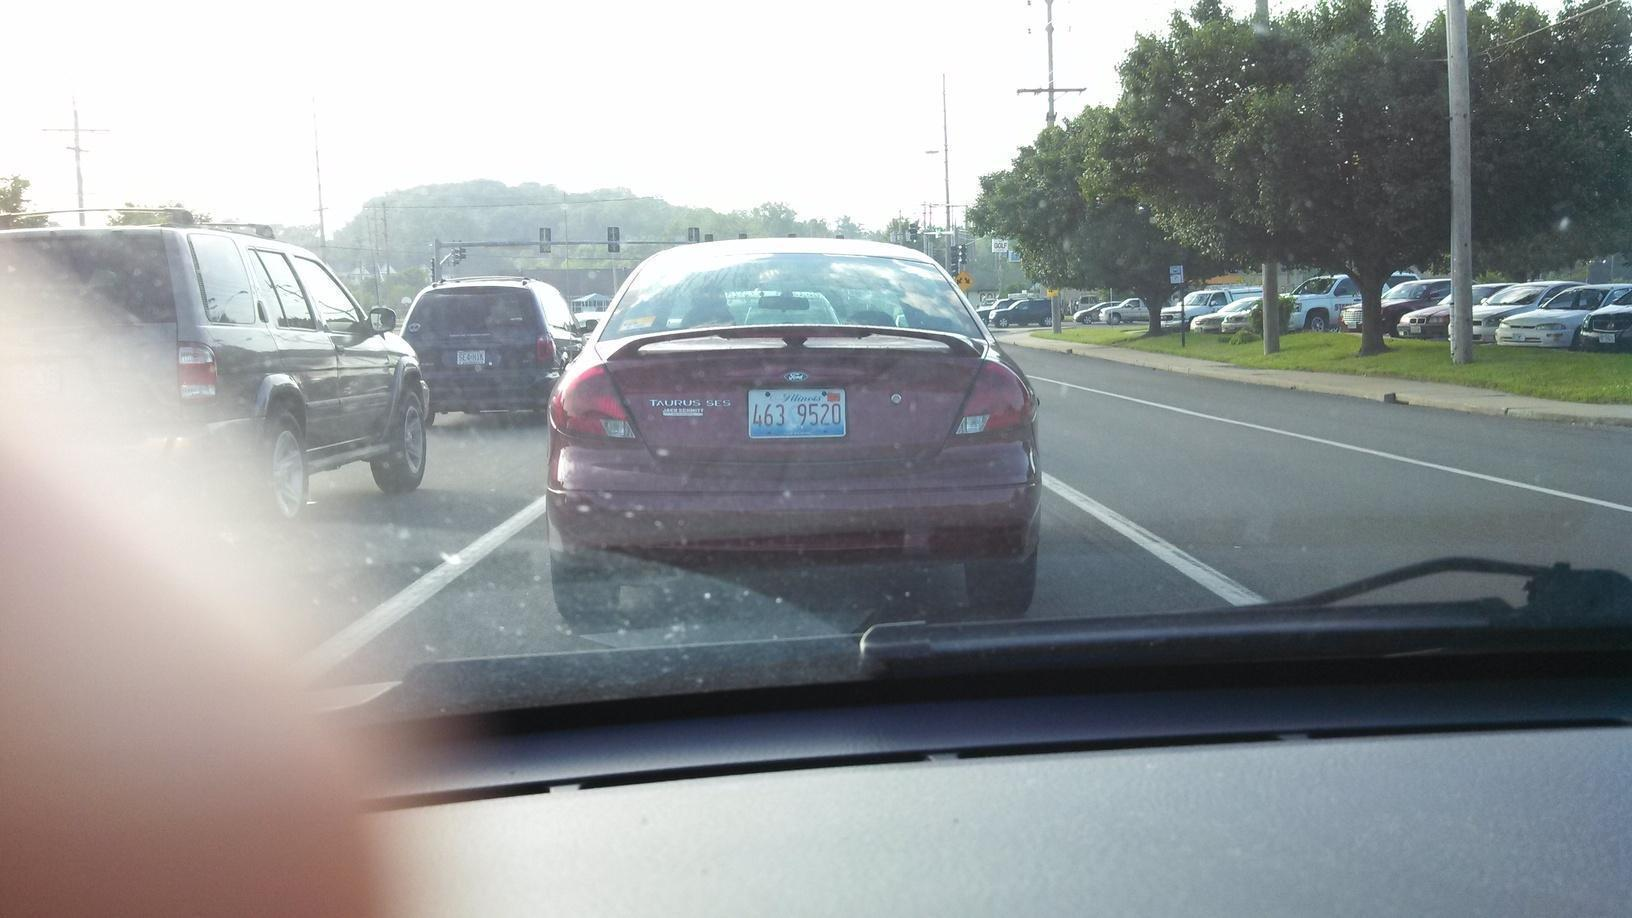placa de veiculo: (724, 368, 862, 450), (439, 345, 494, 368)
